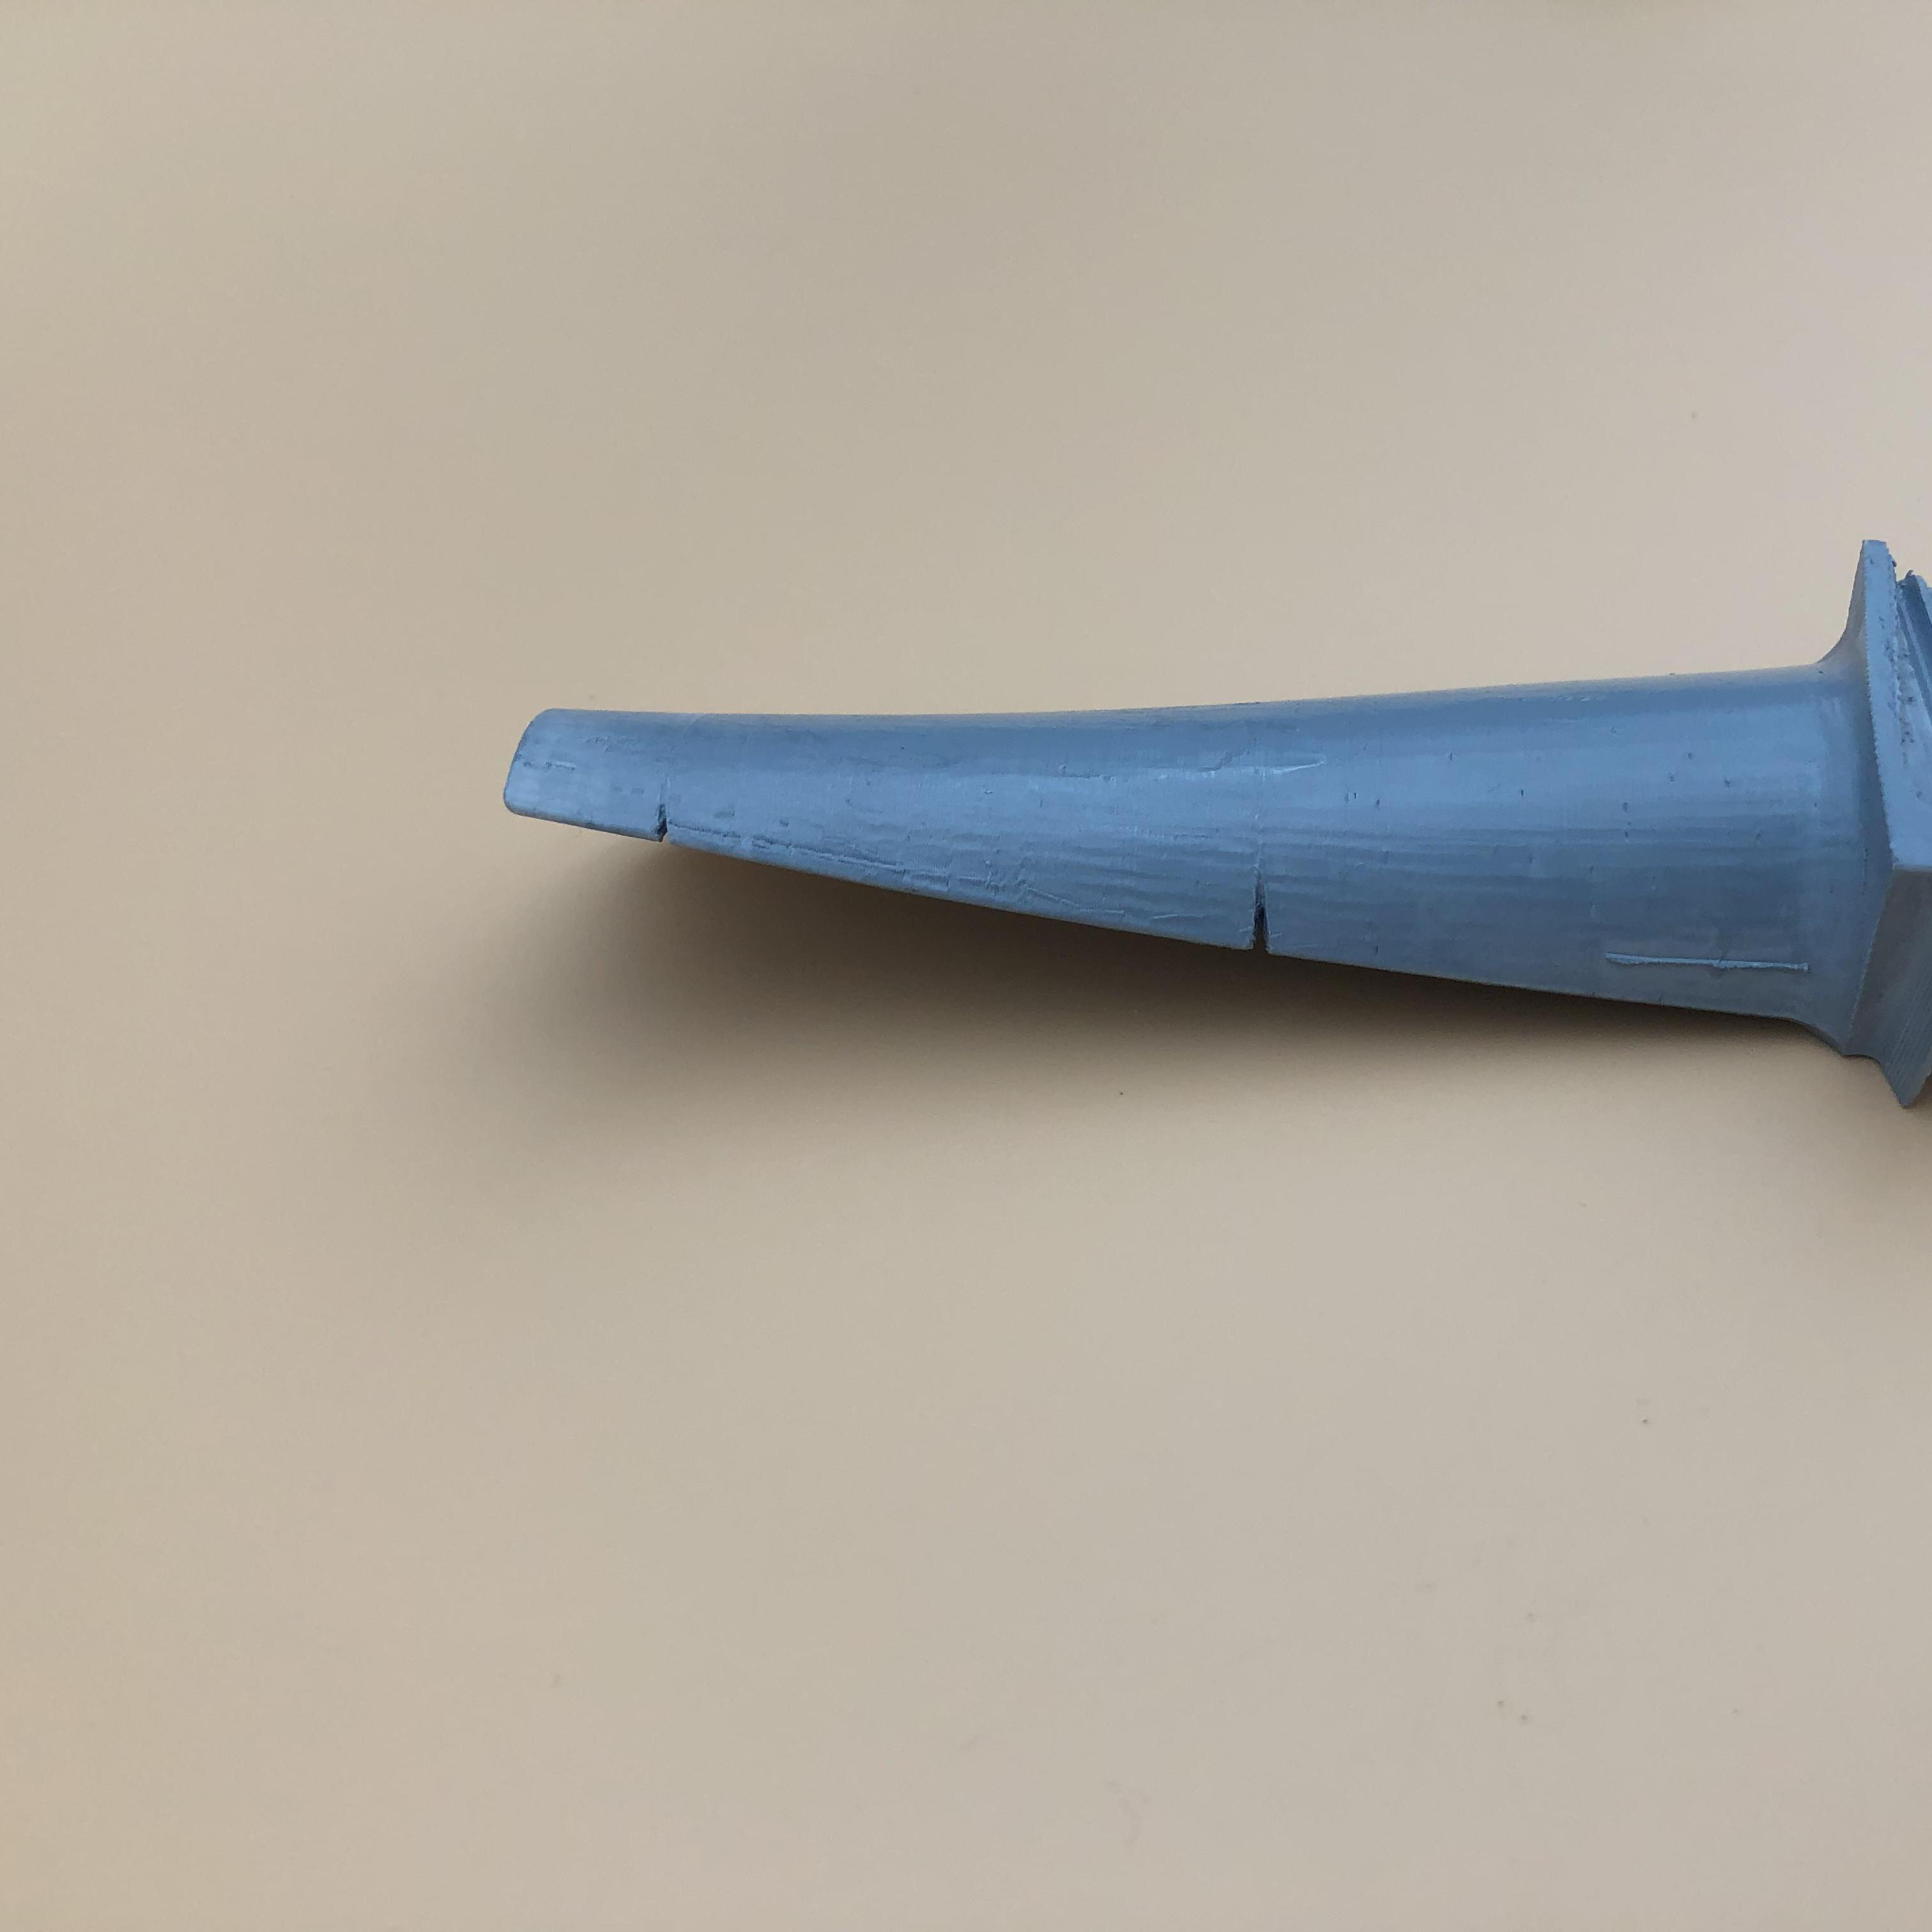groove: (1237, 888, 1300, 954), (639, 794, 683, 844)
